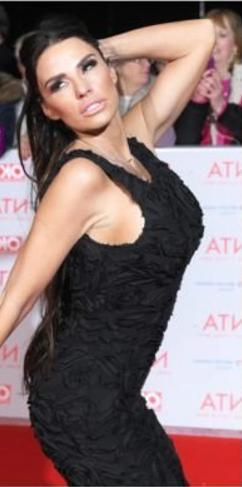Drunk: (37, 42, 115, 135)
